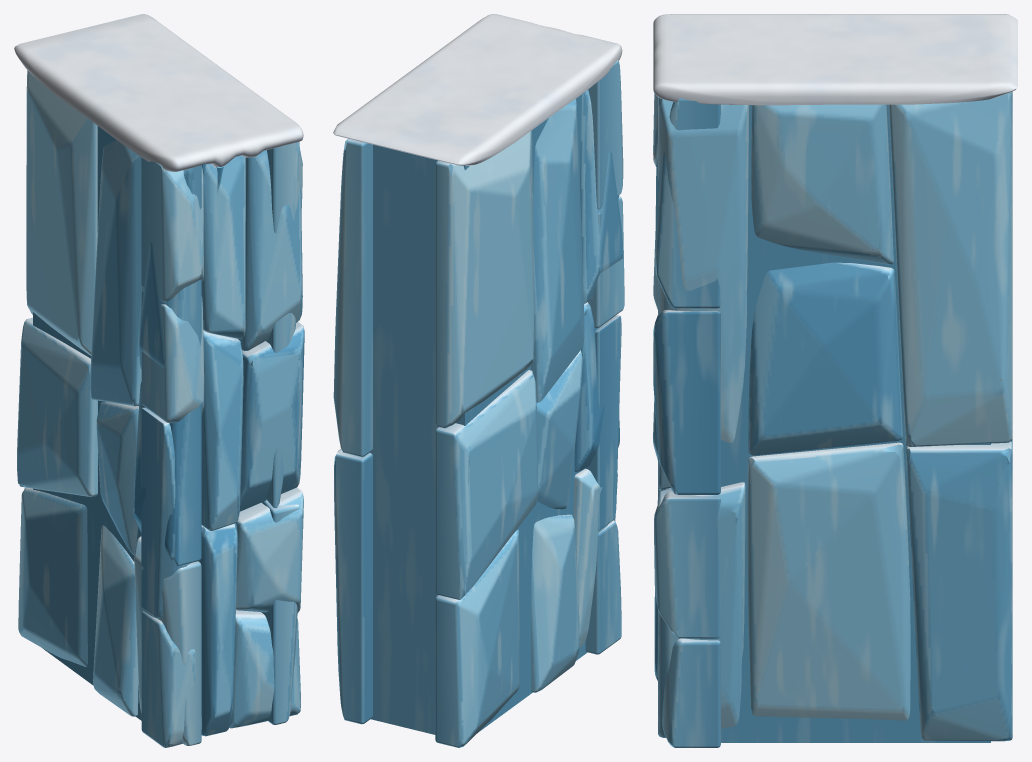
File: FP_T08_IceCliffWall.fbx
3 renders of one model, left to right at view 1: azimuth 30°, elevation 25°; view 2: azimuth 150°, elevation 25°; view 3: azimuth 270°, elevation 25°, orthographic. The views are drawn at different scales.
Parts seen in each view (by area): view 1: Ice, SnowCap; view 2: Ice, SnowCap; view 3: Ice, SnowCap.
Boxes of the visible parts, x1,y1,x2,y2 form: Ice: [17, 70, 304, 747]; SnowCap: [14, 14, 303, 194]; Ice: [333, 60, 624, 747]; SnowCap: [333, 14, 622, 165]; Ice: [653, 91, 1012, 747]; SnowCap: [653, 14, 1017, 105].
Size of the model in its own units: 2 by 8.01 by 3.99.
